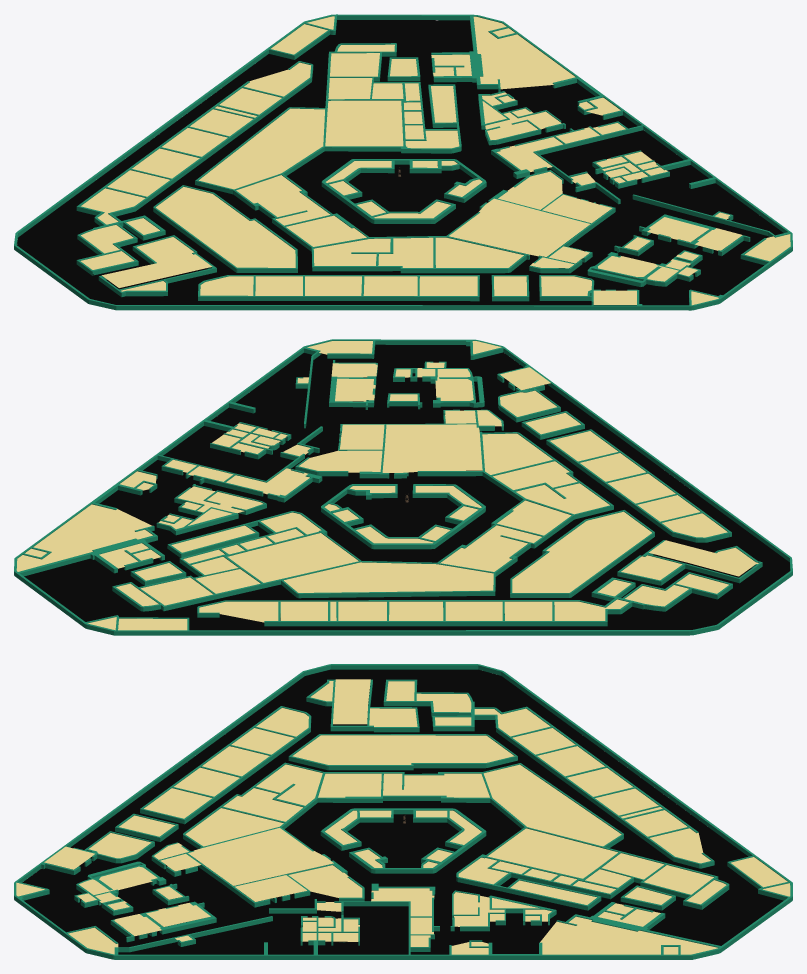
File: demo.glb
The picture shows the model from 3 angles, top to bottom: view 1: azimuth 30°, elevation 25°; view 2: azimuth 150°, elevation 25°; view 3: azimuth 270°, elevation 25°; orthographic projection.
Parts seen in each view (by area): view 1: roofs, floor, walls; view 2: roofs, floor, walls; view 3: roofs, floor, walls.
Part boxes in pixels (<box>): roofs: <box>80,16,790,305</box>; floor: <box>17,20,783,305</box>; walls: <box>14,14,792,310</box>; roofs: <box>16,341,758,630</box>; floor: <box>24,344,790,630</box>; walls: <box>14,339,792,635</box>; roofs: <box>16,679,790,954</box>; floor: <box>22,669,783,954</box>; walls: <box>14,664,792,959</box>.
Size of the model in its own units: 30.35 by 1.2 by 34.28.
Materials: 5 (2 with a texture image).
